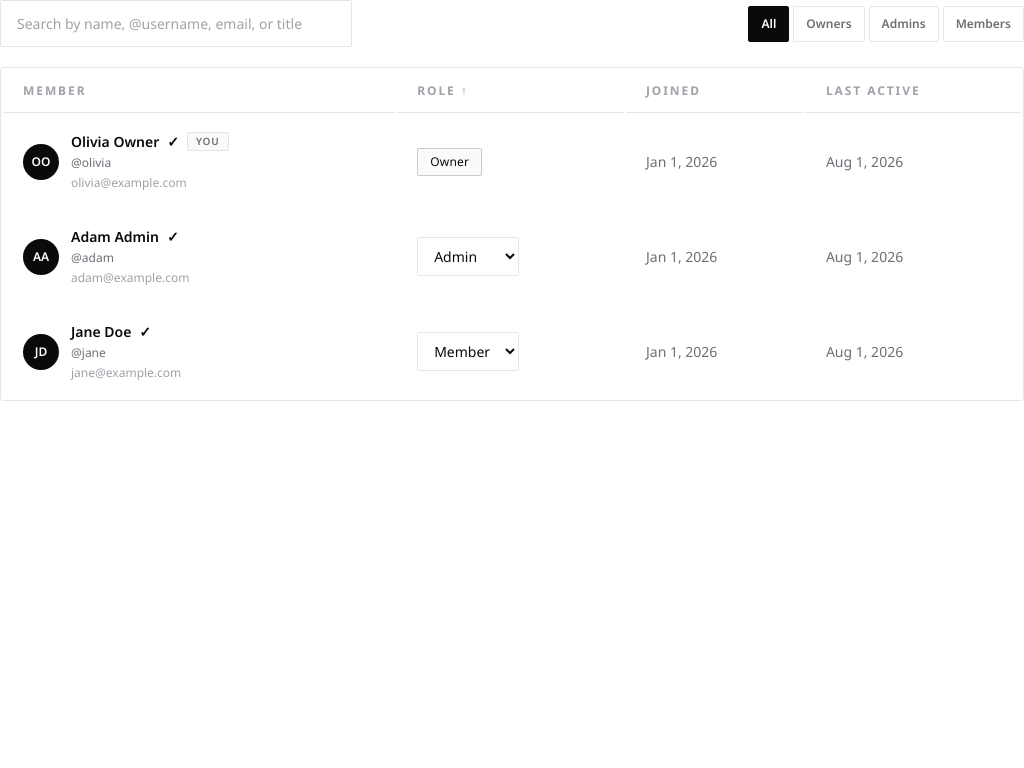
Scenario: TeamRoster › opens the detail drawer when a row is clicked
What coordinates should you click on to do the following:
click the button with aria-label "Open Jane Doe"
I would click on:
 (512, 352)
Its box is top-left (3, 305), bottom-right (1021, 398).
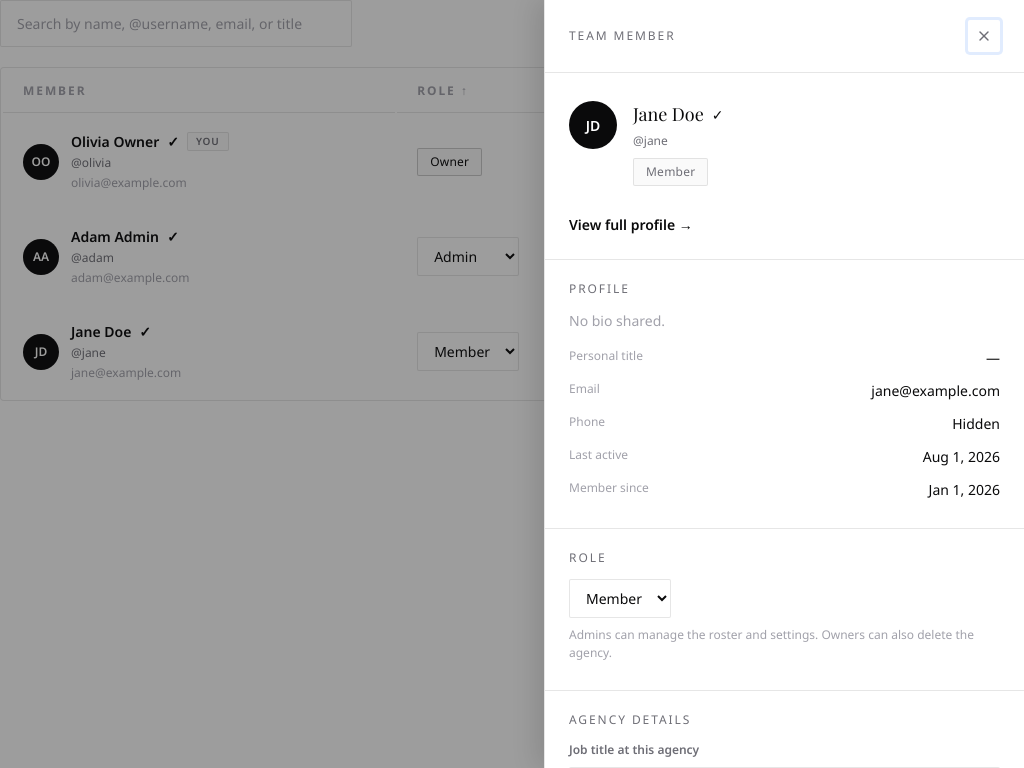
Now the dialog named "Member: Jane Doe" is shown, box top-left (544, 0), bottom-right (1023, 767)
